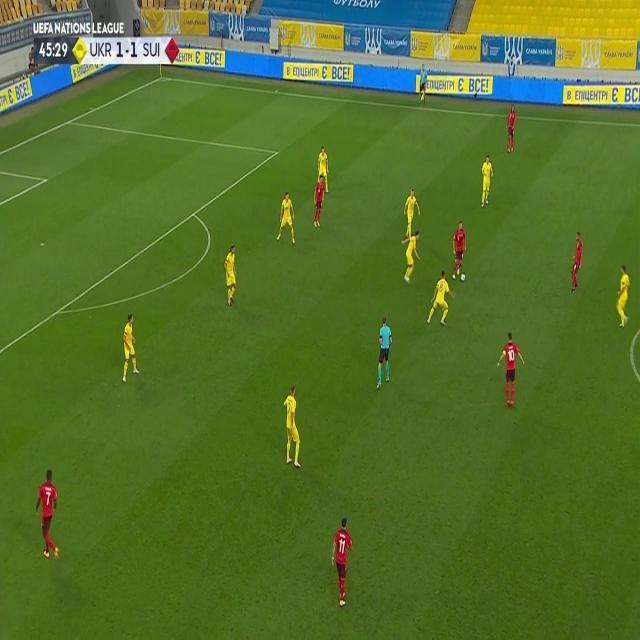ball: (461, 272, 466, 282)
player: (33, 467, 60, 561), (330, 514, 355, 609), (495, 330, 525, 406), (282, 382, 303, 469), (426, 270, 454, 327), (120, 312, 140, 382), (276, 190, 297, 246), (614, 263, 632, 327), (401, 188, 421, 242), (568, 229, 584, 295), (451, 219, 467, 281), (403, 228, 421, 281), (223, 244, 238, 307), (479, 154, 494, 208), (312, 174, 325, 229), (316, 145, 330, 193), (506, 103, 517, 156)
referee: (375, 317, 393, 388), (416, 62, 428, 108)
